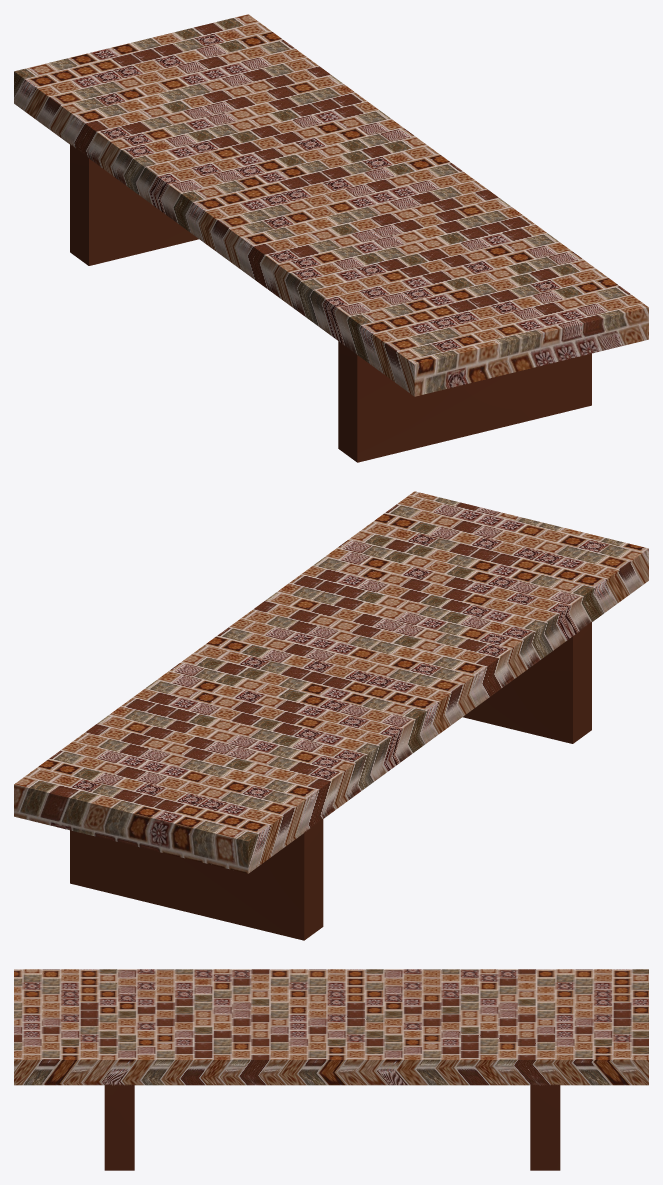
Rendered from tilebench.obj.
3 renders of one model, top to bottom at view 1: azimuth 30°, elevation 25°; view 2: azimuth 150°, elevation 25°; view 3: azimuth 270°, elevation 25°, orthographic. The views are drawn at different scales.
Visible parts, largest first — view 1: Cube, Cube.002, Cube.001; view 2: Cube, Cube.001, Cube.002; view 3: Cube, Cube.002, Cube.001.
Boxes of the visible parts, left/top/right/bottom form: Cube: left=14, top=14, right=648, bottom=396; Cube.002: left=338, top=341, right=591, bottom=462; Cube.001: left=70, top=144, right=198, bottom=265; Cube: left=14, top=491, right=648, bottom=873; Cube.001: left=70, top=818, right=323, bottom=940; Cube.002: left=463, top=621, right=591, bottom=743; Cube: left=14, top=969, right=648, bottom=1085; Cube.002: left=104, top=1084, right=134, bottom=1170; Cube.001: left=530, top=1084, right=560, bottom=1170.
Size of the model in its own units: 2 by 1.14 by 5.92.
2 materials, 2 textured.
